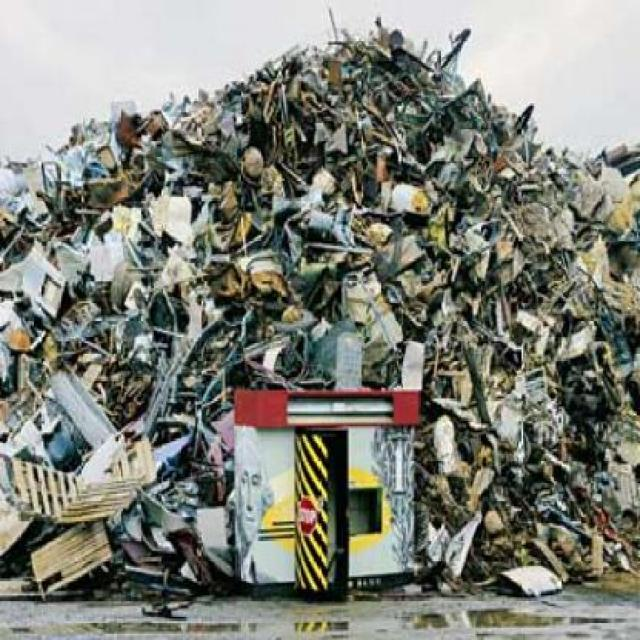garbage: (0, 155, 227, 588), (232, 85, 514, 378), (520, 135, 638, 586), (423, 382, 520, 585), (278, 45, 460, 88), (72, 109, 228, 149)
